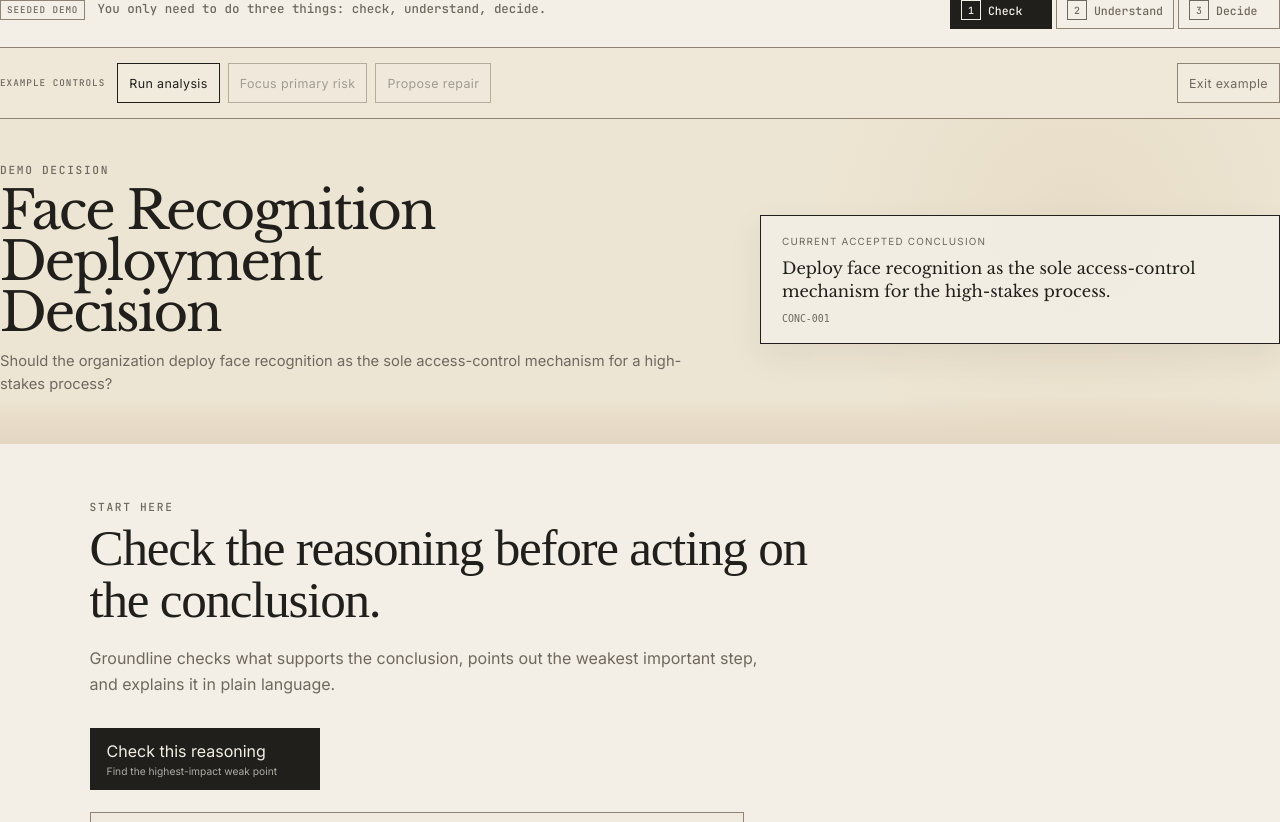
Test: P-06.6 plain-language review flow › opens the live reasoning workspace automatically after the check action
Click the button "Check this reasoning Find the highest-impact weak point" at (205,759), box [90, 728, 320, 790]
(page scrolled)
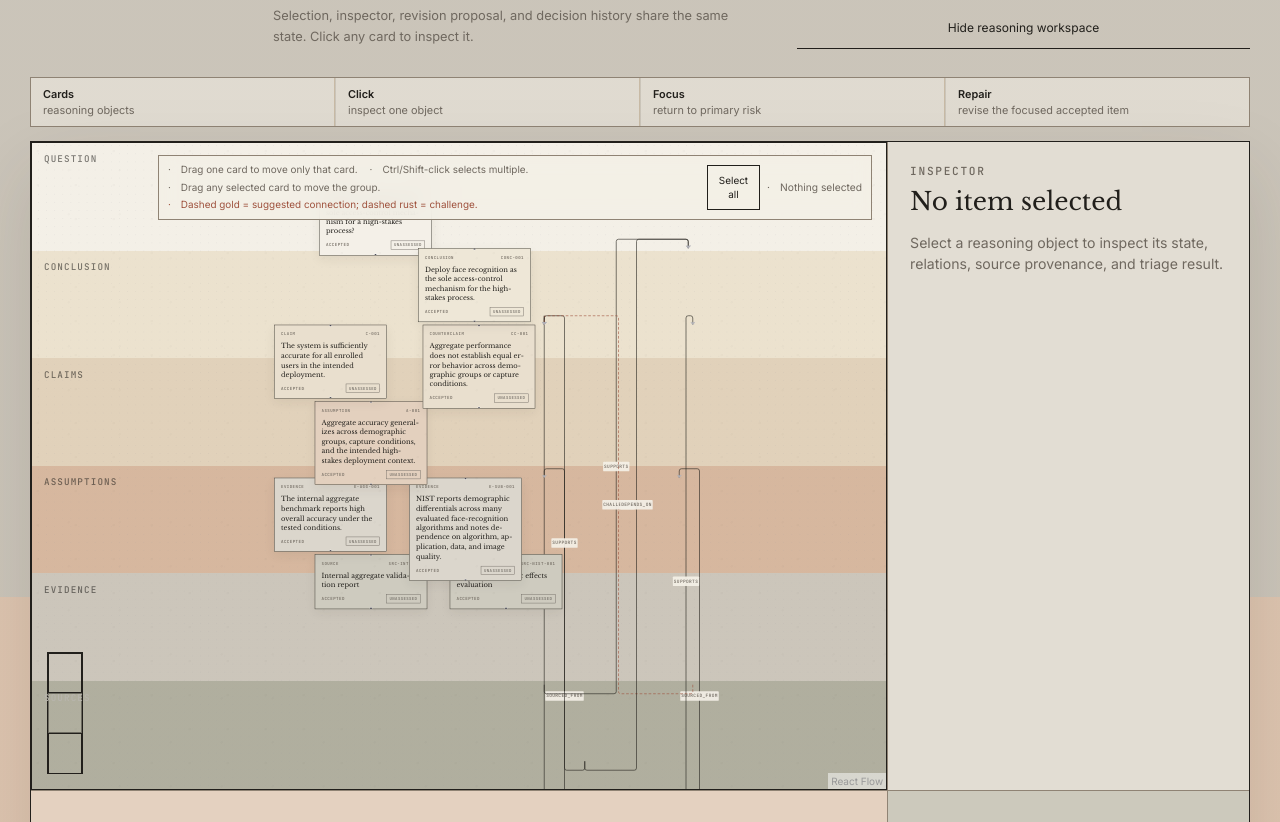
Expected: the element named "Groundline reasoning graph" is shown, [31, 142, 887, 790]
